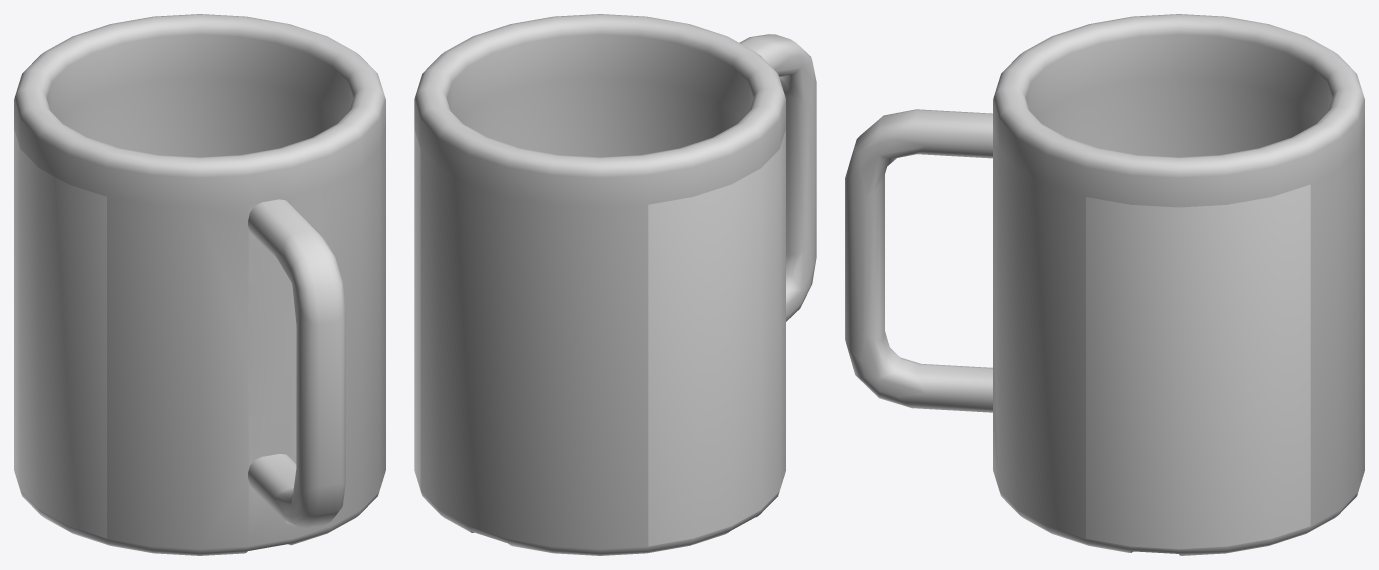
Rendered from mug_v.fbx.
The picture shows the model from 3 angles, left to right: view 1: azimuth 30°, elevation 25°; view 2: azimuth 150°, elevation 25°; view 3: azimuth 270°, elevation 25°; orthographic projection.
Visible parts, largest first — view 1: MUG_V; view 2: MUG_V; view 3: MUG_V.
Part boxes in pixels (bbox=[...]): MUG_V: bbox=[14, 14, 385, 555]; MUG_V: bbox=[414, 14, 816, 555]; MUG_V: bbox=[845, 14, 1364, 555].
Bounding box in the file's own units: 8.6 × 10.03 × 12.03.
Materials: 2 (1 with a texture image).
